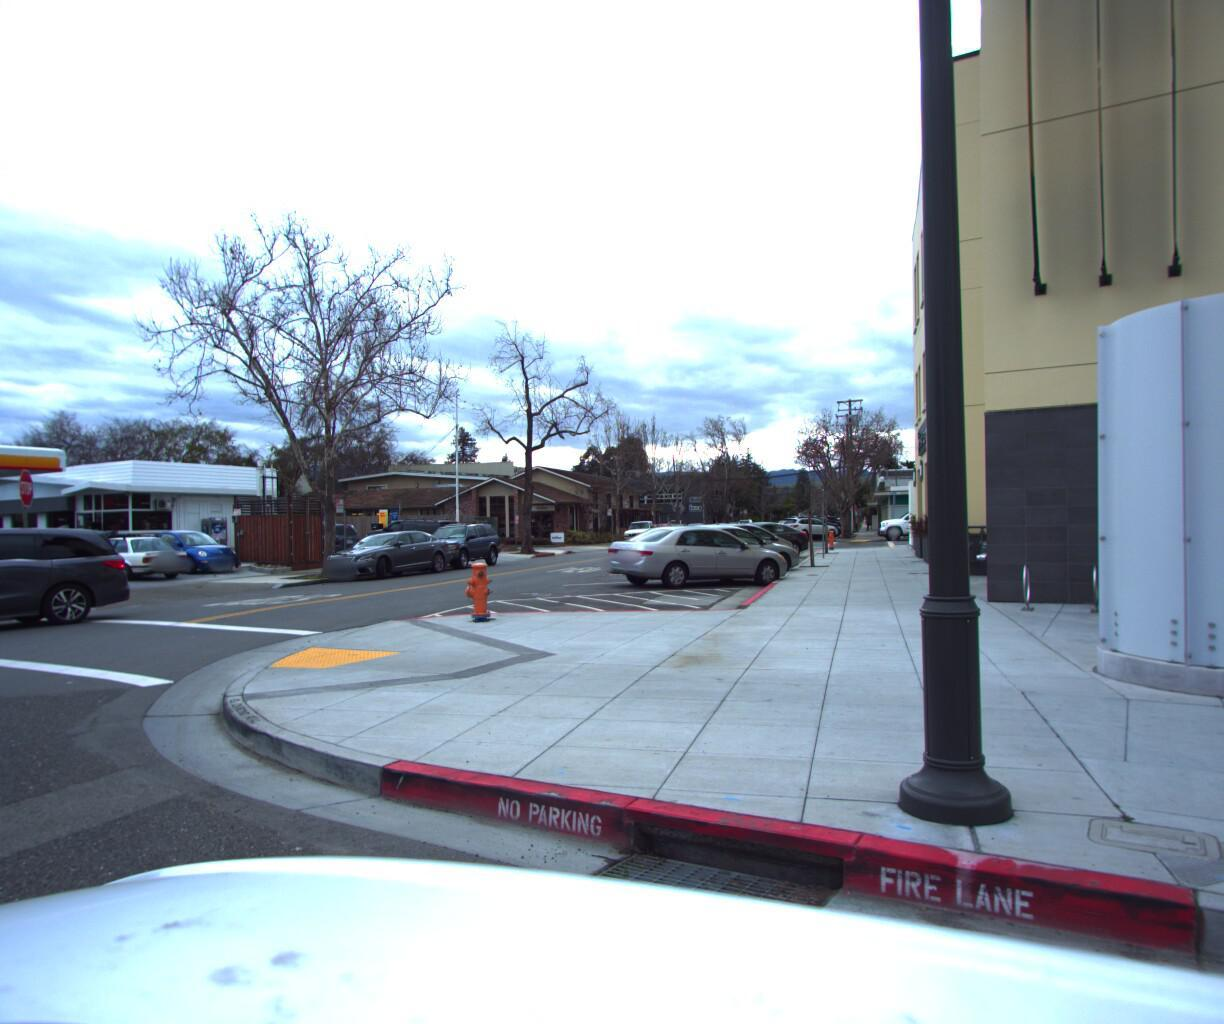car: (0, 519, 136, 655), (594, 515, 788, 588), (632, 514, 803, 575), (309, 521, 454, 578), (57, 523, 194, 576), (679, 514, 801, 564), (401, 513, 506, 569), (120, 521, 245, 567), (691, 513, 814, 554), (252, 513, 368, 556), (362, 511, 468, 547), (875, 502, 978, 536), (774, 509, 839, 534), (619, 514, 663, 541)
